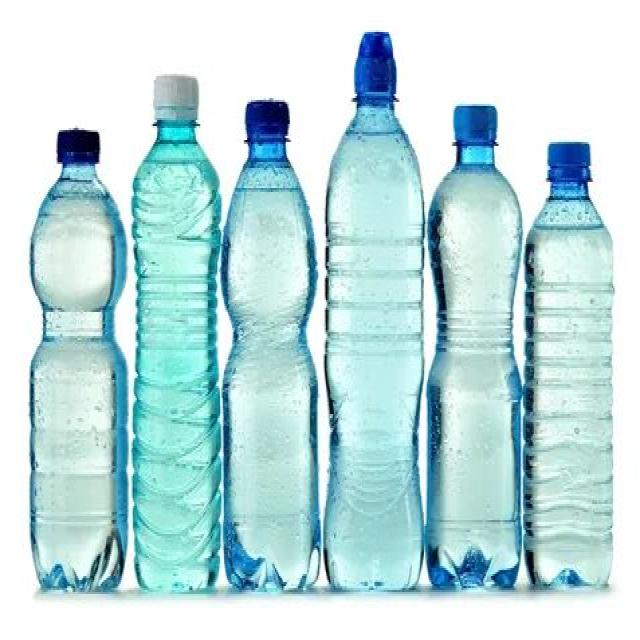blue: (327, 100, 422, 587), (222, 142, 318, 592), (428, 143, 523, 595), (30, 164, 128, 588), (528, 180, 612, 590)
